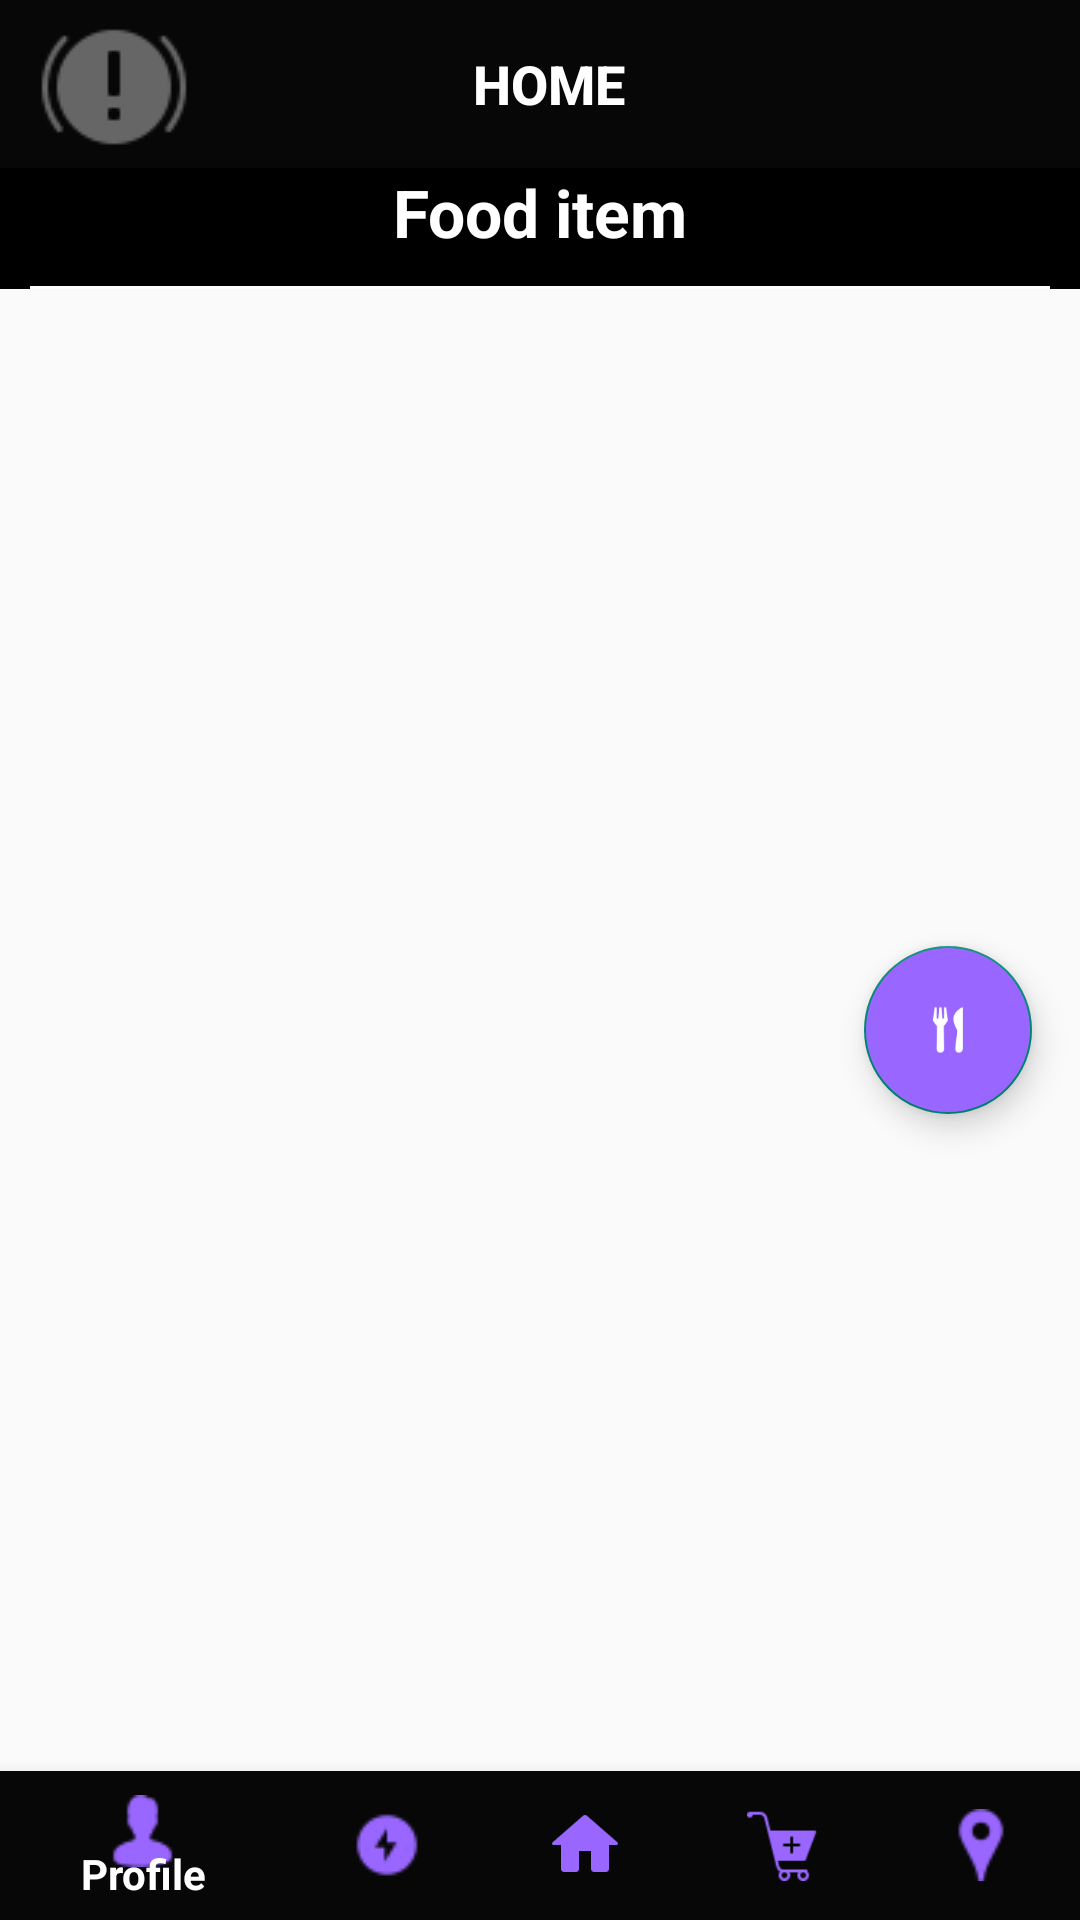

Where icons sit on this 1080 x 1920 app screen, as (x1=x1, y1=y1, x2=x2, y2=y2):
diningroom: (x1=864, y1=946, x2=1032, y2=1114)
warning: (x1=41, y1=29, x2=187, y2=145)
